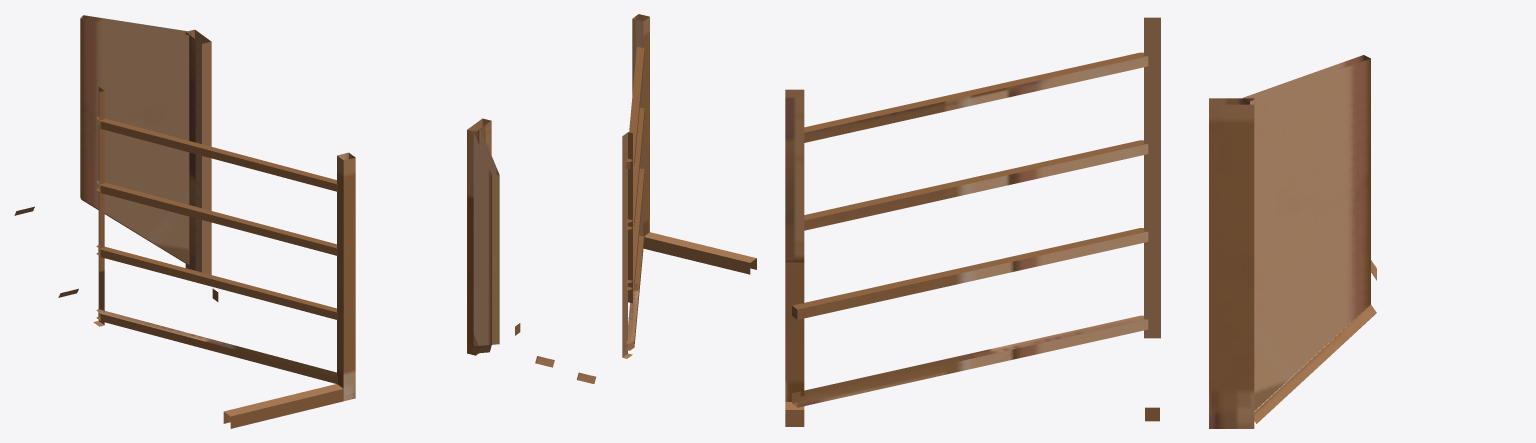
The model's file is section-7.obj.
3 views of the same model, side by side, from view 1: azimuth 30°, elevation 25°; view 2: azimuth 150°, elevation 25°; view 3: azimuth 270°, elevation 25° (orthographic). The views are drawn at different scales.
Bounding box in the file's own units: 0.57 × 0.965 × 1.96.
